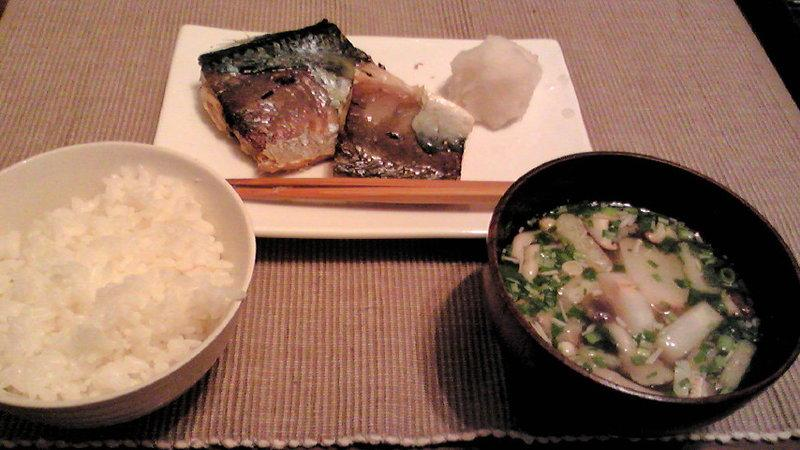plate: (0, 142, 255, 427)
rice: (0, 166, 245, 405)
